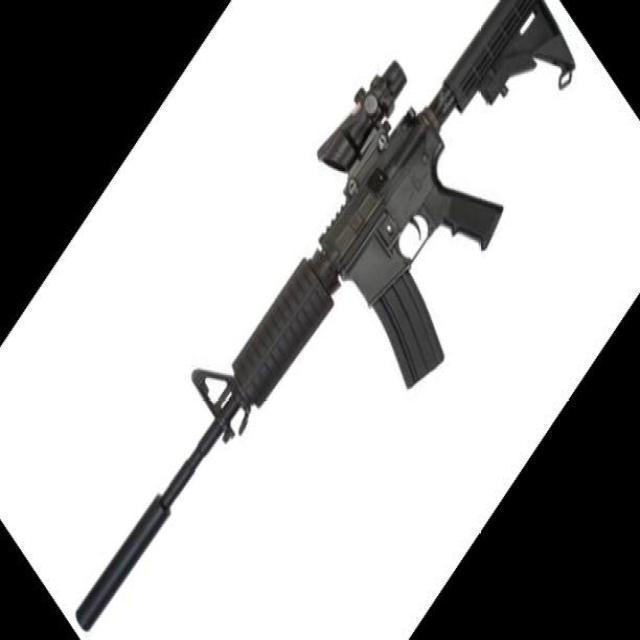Rifle: (75, 1, 578, 634)
